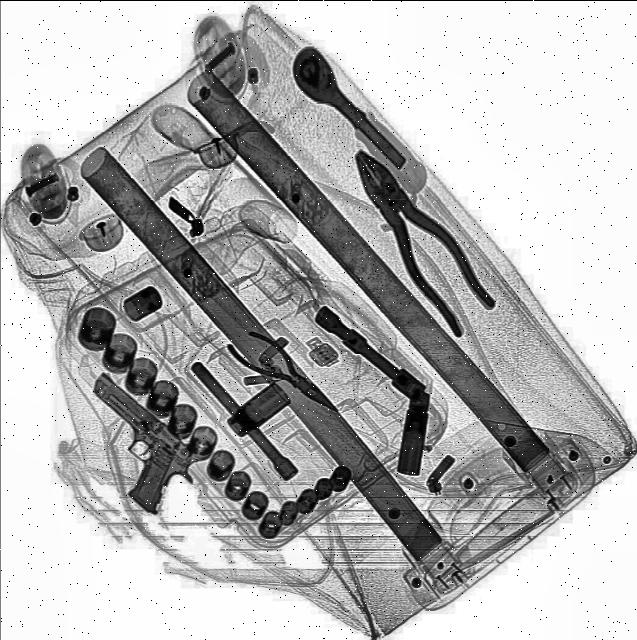Gun: (47, 370, 213, 518)
Pliers: (333, 134, 509, 338), (221, 318, 351, 422)
